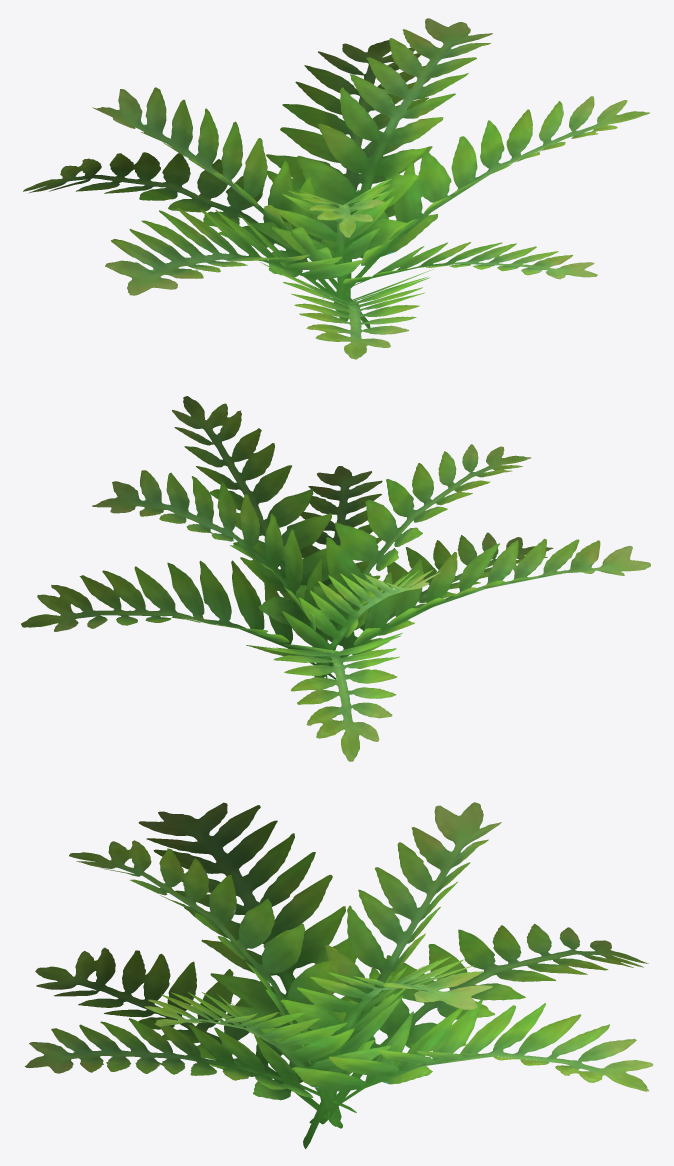
Rendered from P_Fern2_Yellow.obj.
3 views of the same model, one above another, from view 1: azimuth 30°, elevation 25°; view 2: azimuth 150°, elevation 25°; view 3: azimuth 270°, elevation 25° (orthographic). The views are drawn at different scales.
Bounding box in the file's own units: 2.69 × 1.1 × 2.54.
